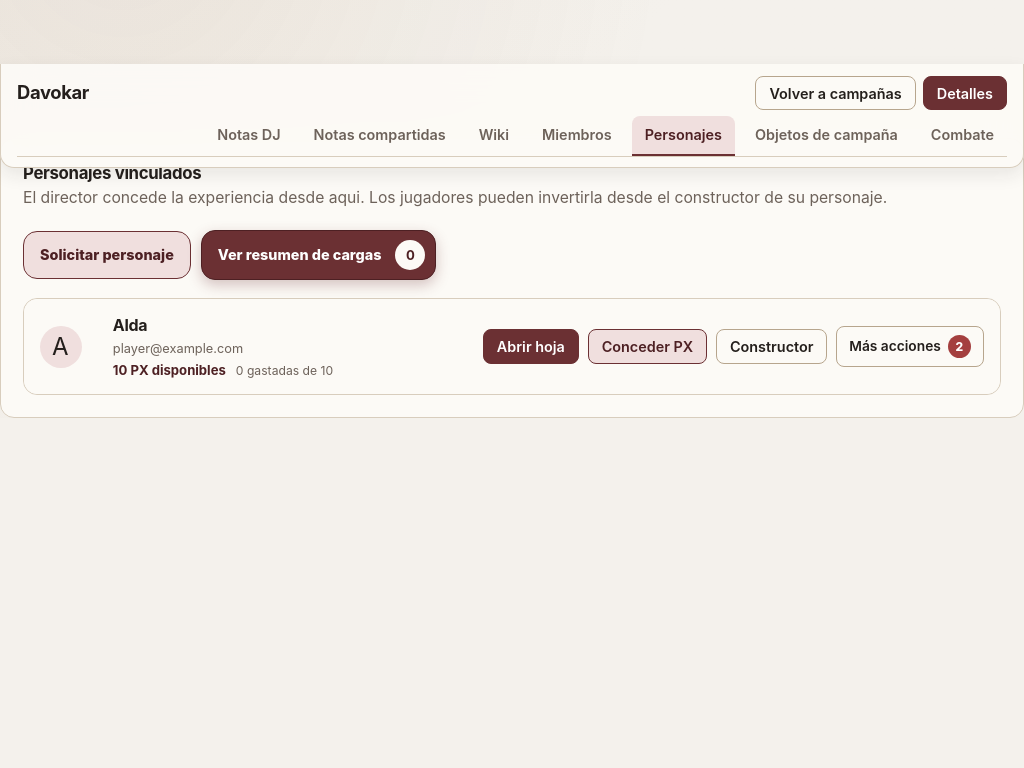
it: CampaignDashboardView experience grants › places linking in a modal, highlights burdens and groups secondary character actions
The width and height of the screenshot is (1024, 768).
Click the button "Solicitar personaje".
click(107, 255)  # box [23,231,191,279]
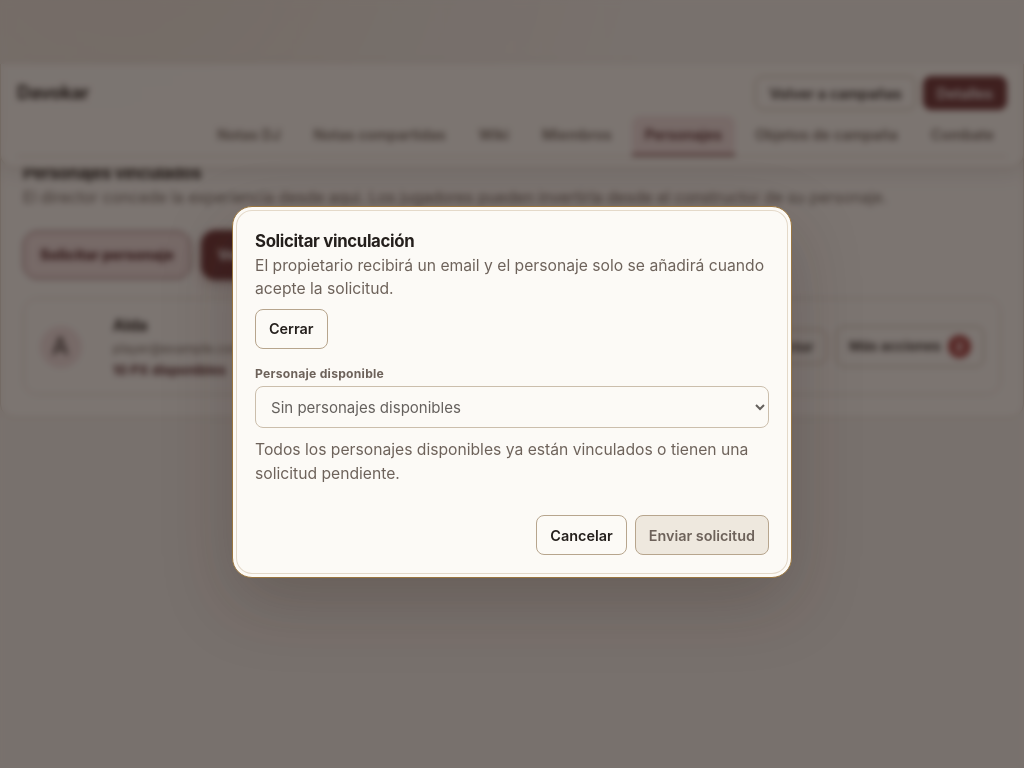
expect the dropdown labelled "Personaje disponible" is disabled: met, box [255,386,769,428]
expect the text "Todos los personajes disponibles ya están vinculados o tienen una solicitud pendiente." is shown: met, box [255,440,748,483]
Click the button "Cancelar".
click(582, 535)  # box [536,515,627,555]
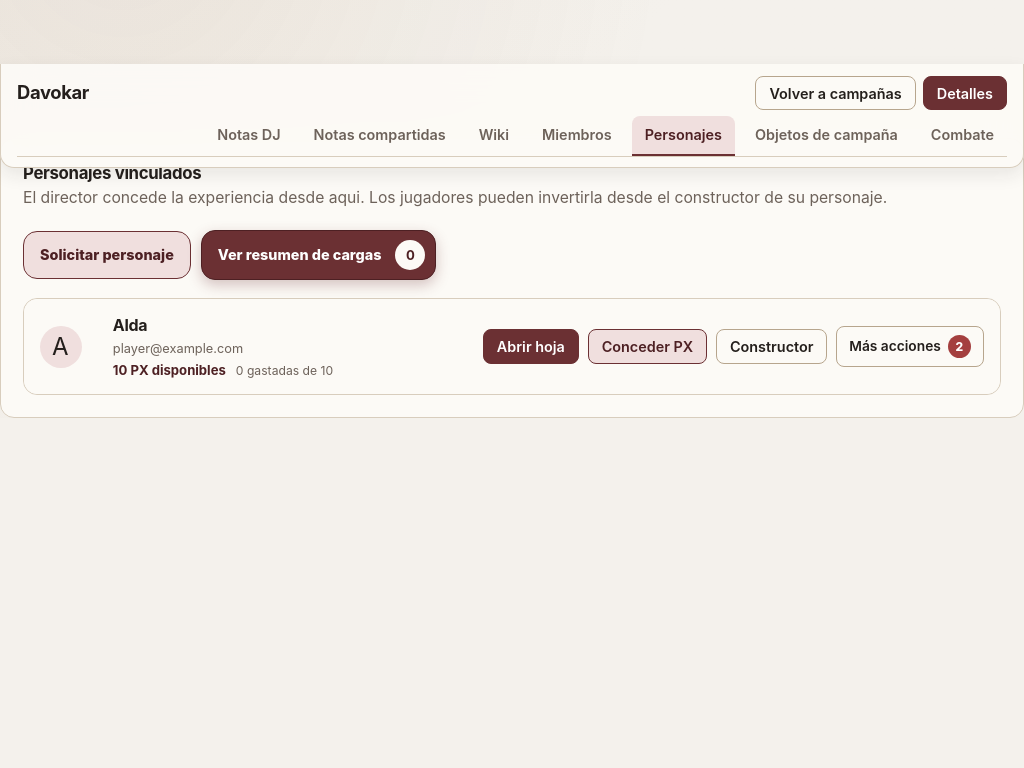
expect the button "Abrir hoja" is shown: met, box [483,329,579,364]
expect the heading "Solicitar vinculación" is gone: met
Click the heading "Más acciones 2".
click(910, 347)  # box [836,326,984,367]
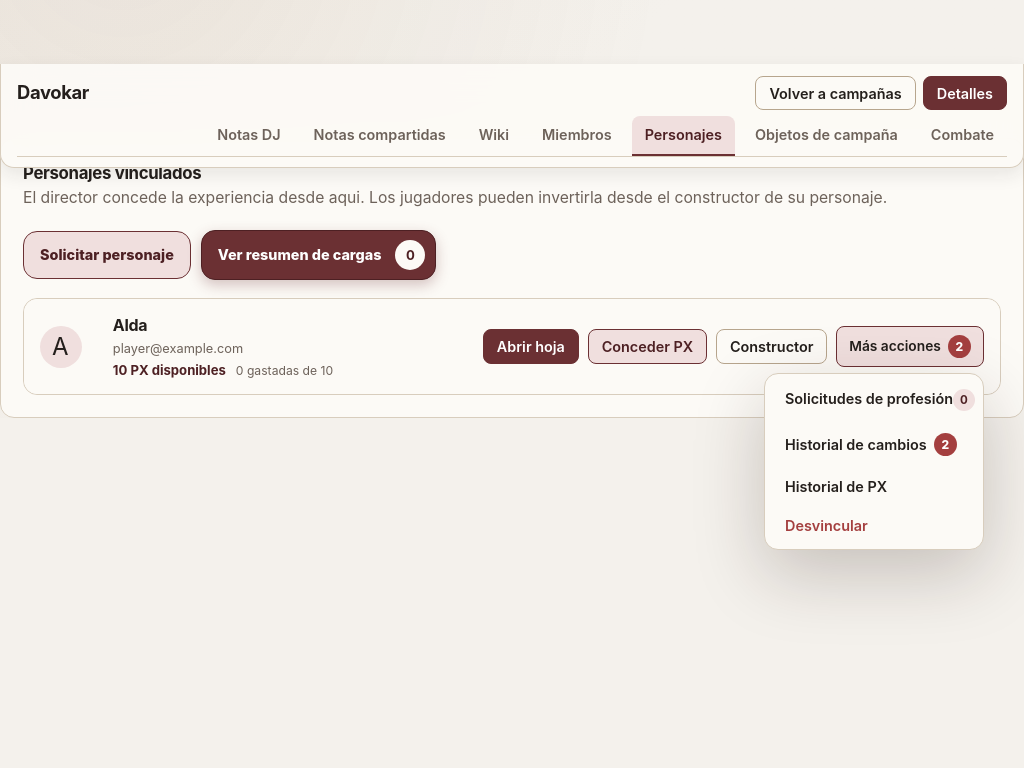
expect the button with aria-label "Solicitudes de profesión de Alda: 0 pendientes" is shown: met, box [771,380,989,420]
expect the text named "2 cambios sin leer" reads "2": met, box [941,437,949,452]
expect the button "Historial de PX" is shown: met, box [771,469,989,504]
